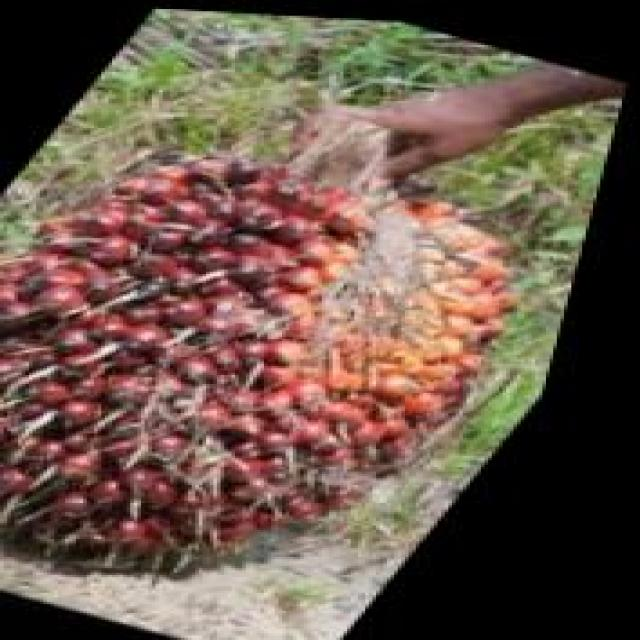Ripefruit: (0, 63, 626, 635)
